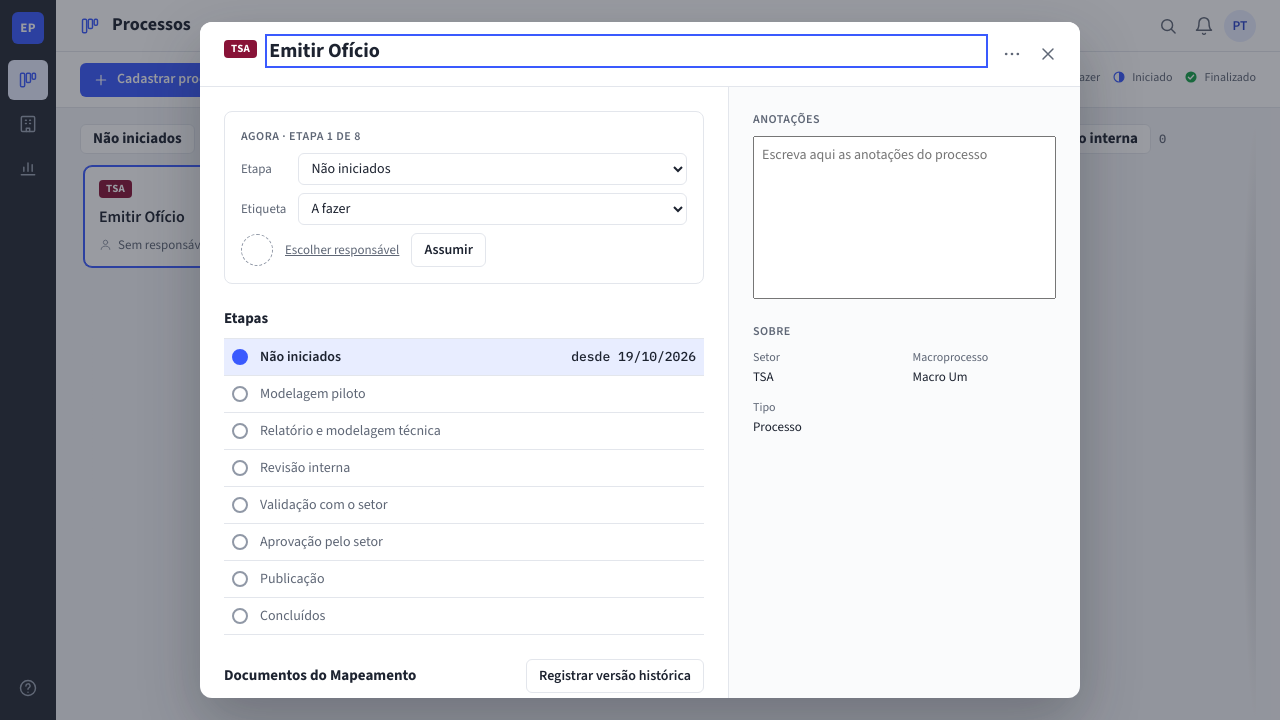
Test: o formulário tem o número e os quatro campos de arquivo, sem observação, e começa sem poder registrar
Click the button "Registrar versão histórica": (615, 676) [526, 659, 704, 693]
(page scrolled)
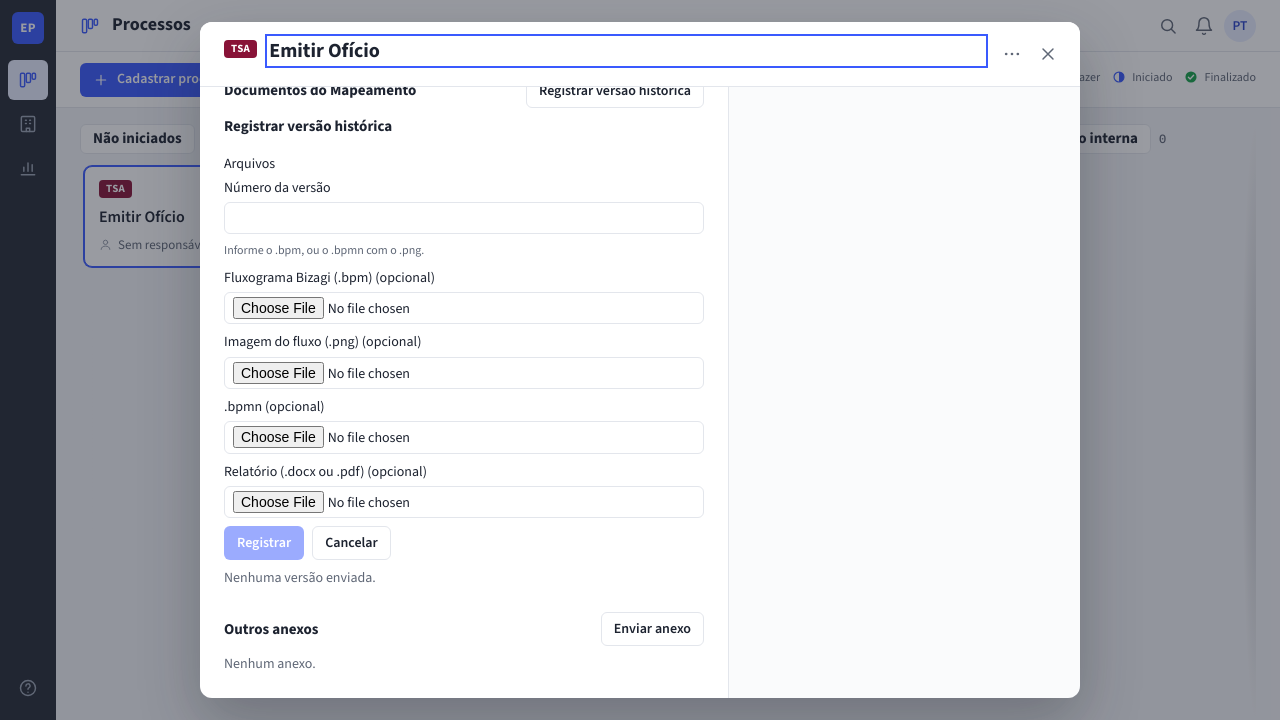
Check: the field labelled "Número da versão" is empty, box [224, 202, 704, 234]
Check: the element "Arquivos" is shown, box [224, 154, 704, 518]
Check: the button "Registrar" is disabled, box [224, 526, 304, 560]
